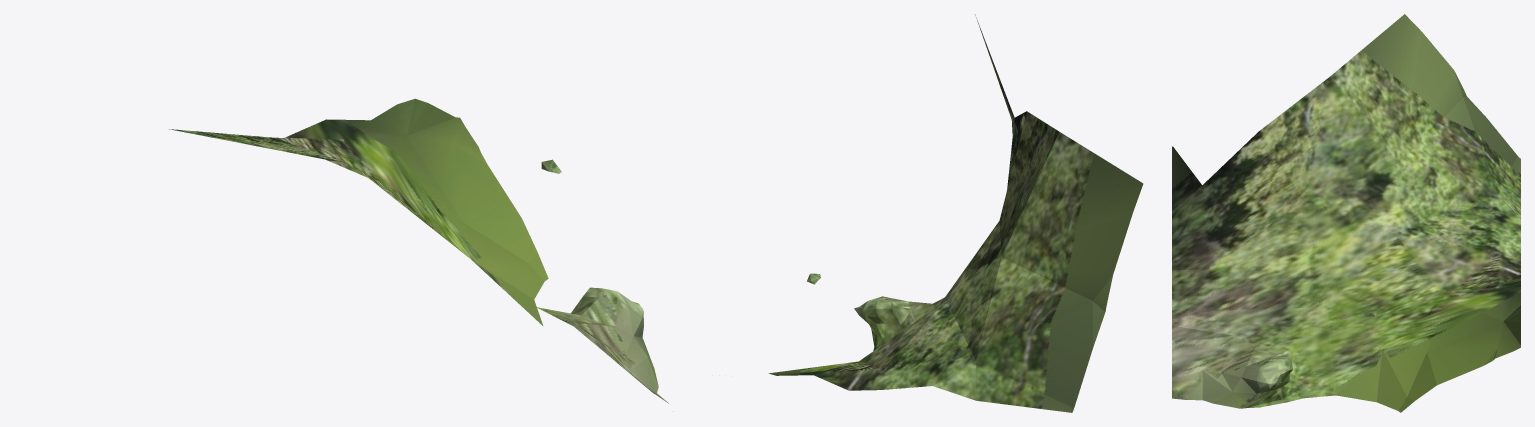
3 views of the same model, side by side, from view 1: azimuth 30°, elevation 25°; view 2: azimuth 150°, elevation 25°; view 3: azimuth 270°, elevation 25° (orthographic). The views are drawn at different scales.
Bounding box in the file's own units: 26.11 × 20.79 × 26.11.
3 materials, 3 textured.
